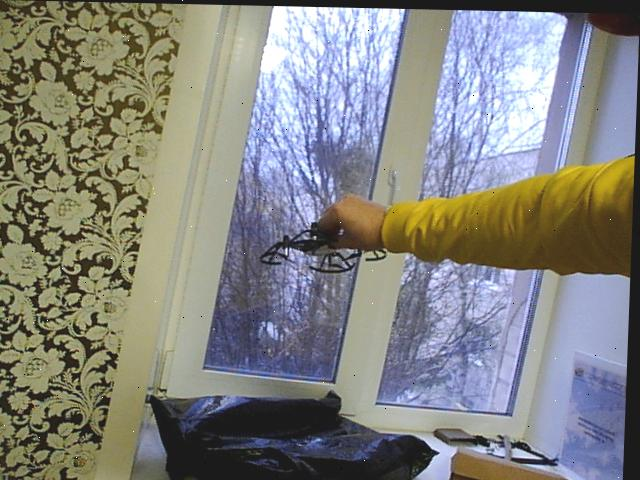drone: (254, 211, 399, 281)
